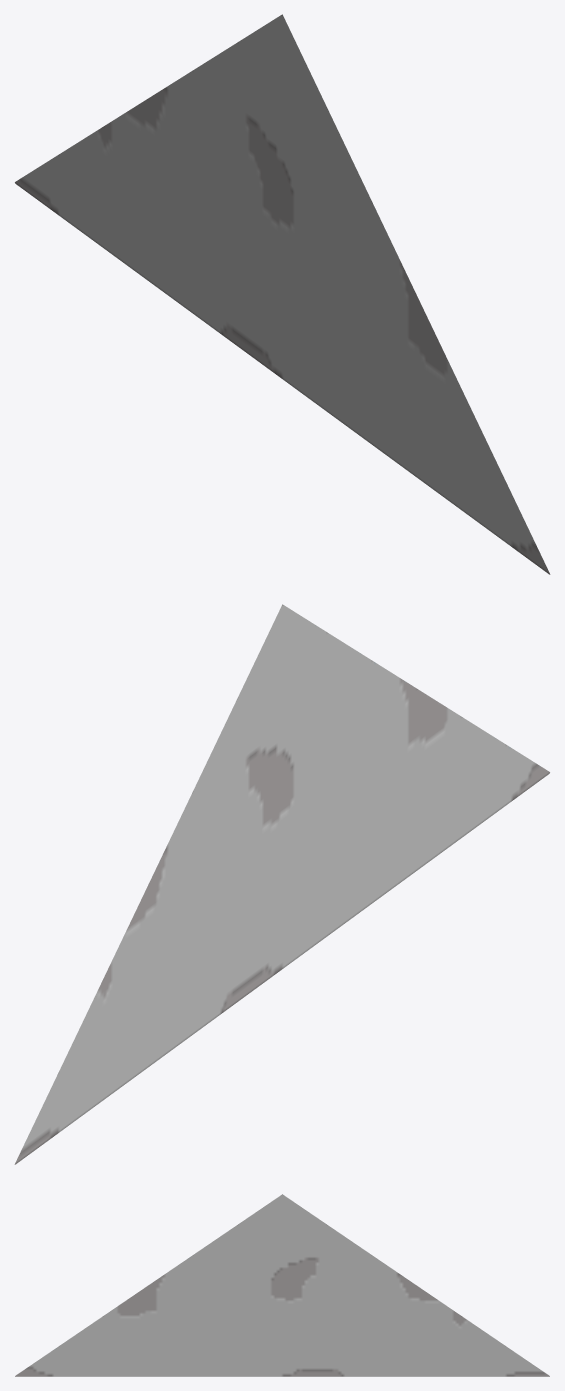
File: TrianguloBlanco2.fbx
3 renders of one model, top to bottom at view 1: azimuth 30°, elevation 25°; view 2: azimuth 150°, elevation 25°; view 3: azimuth 270°, elevation 25°, orthographic. The views are drawn at different scales.
Visible parts, largest first — view 1: plane; view 2: plane; view 3: plane.
Part boxes in pixels (x1,y1,x2,y2): plane: [15, 14, 550, 574]; plane: [14, 604, 549, 1164]; plane: [15, 1194, 549, 1376].
Bounding box in the file's own units: 1.84e-14 × 113 × 300.
1 material, 1 textured.
